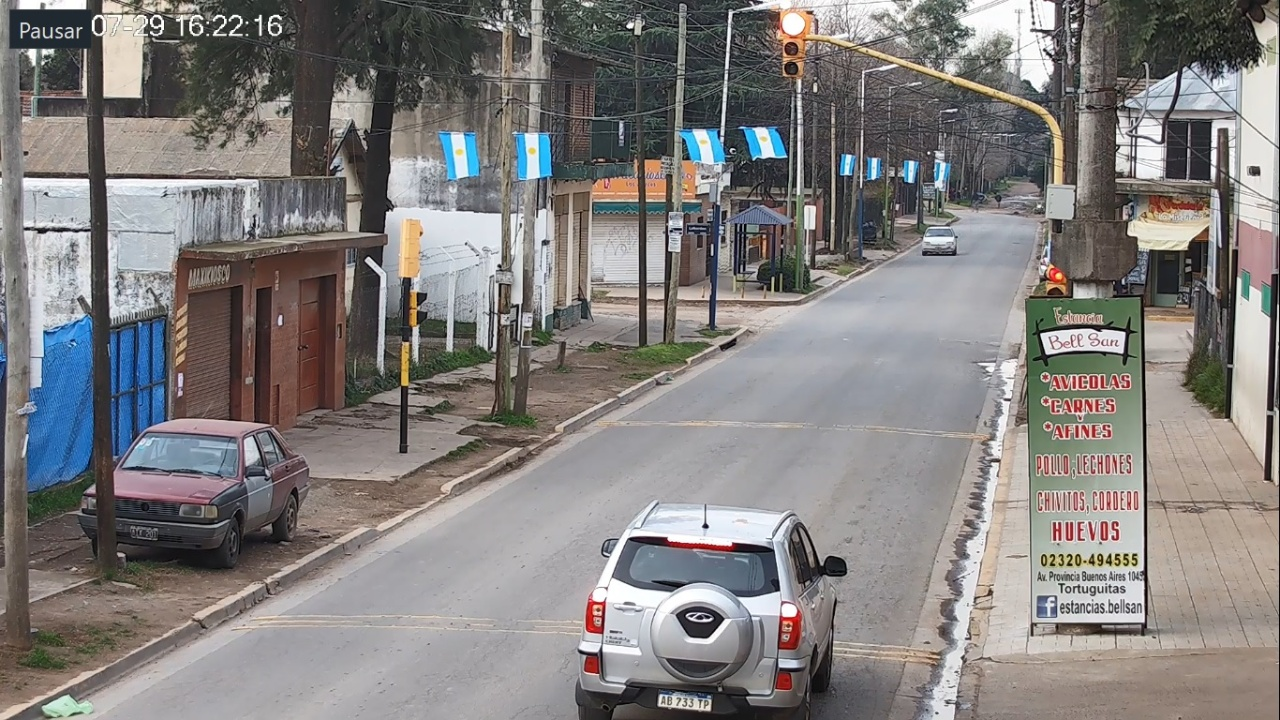car: (574, 501, 847, 720)
traffic light: (781, 10, 805, 77)
